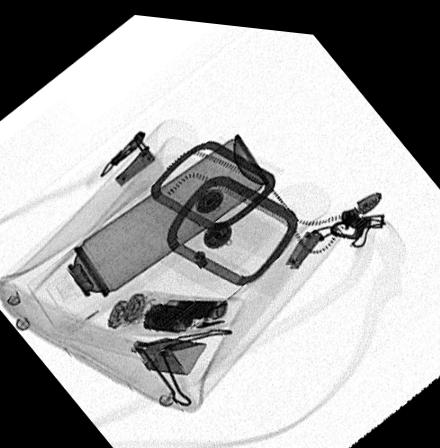Sprayer: (28, 127, 269, 325)
